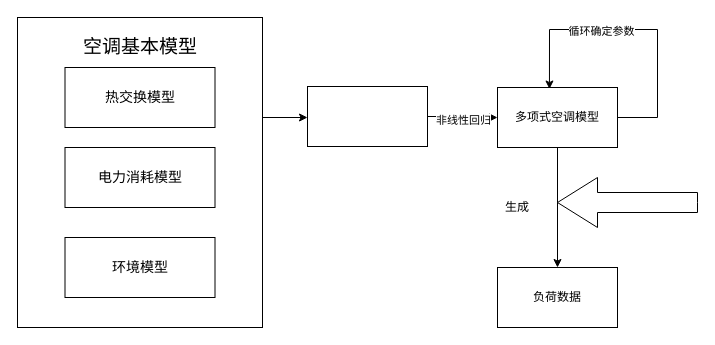
Image size: 715x345. Some labels were removed from this diagram. Each missing label, with the centre of its shape:
数据输入: (x=627, y=202)
空调数字化描述: (x=367, y=116)
